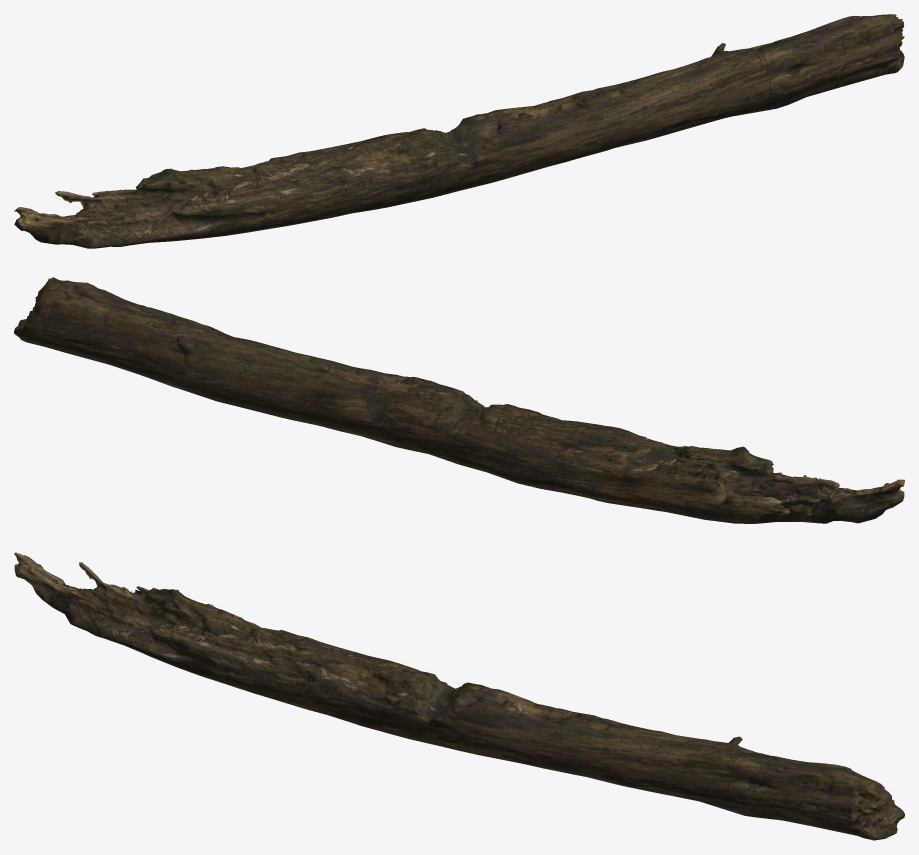
File: dead_tree_trunk.glb
The picture shows the model from 3 angles, top to bottom: view 1: azimuth 30°, elevation 25°; view 2: azimuth 150°, elevation 25°; view 3: azimuth 330°, elevation 25°; orthographic projection.
Parts seen in each view (by area): view 1: dead_tree_trunk; view 2: dead_tree_trunk; view 3: dead_tree_trunk.
Part boxes in pixels (box(x1,y1,x2,y2)): dead_tree_trunk: box(14, 14, 904, 248); dead_tree_trunk: box(14, 277, 904, 523); dead_tree_trunk: box(14, 552, 904, 840).
Bounding box in the file's own units: 3.05 × 0.2905 × 0.2775.
Materials: 1 (1 with a texture image).
